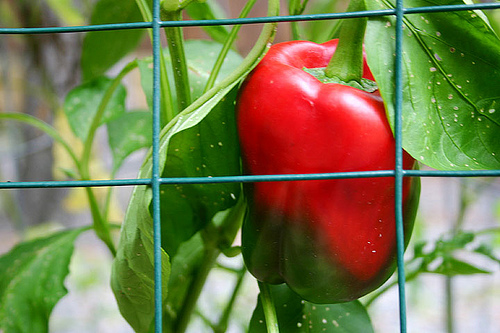capsicum: (237, 1, 422, 307)
